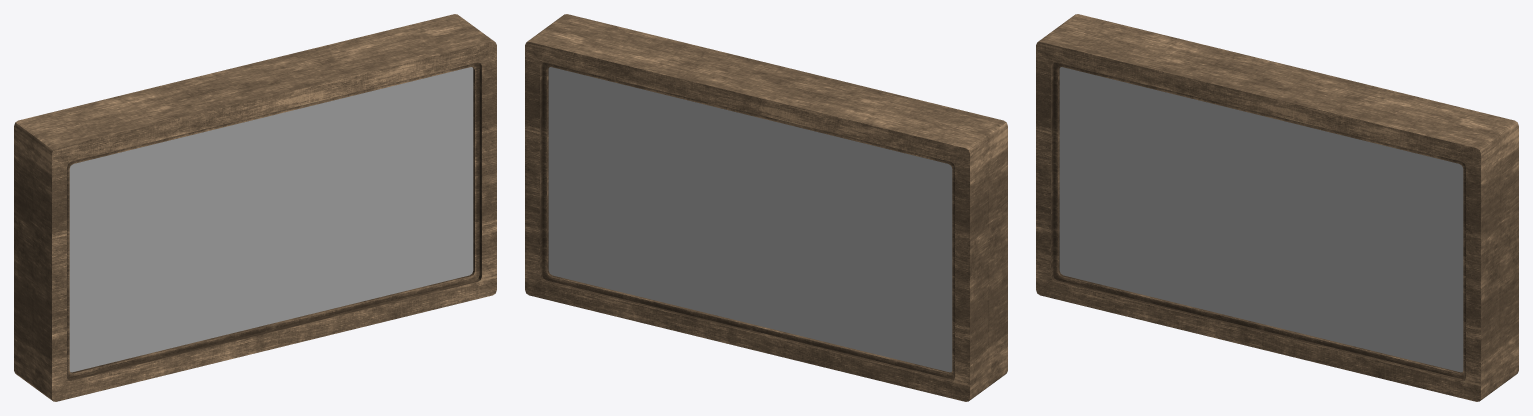
Rendered from M_BRoomWindow.fbx.
3 views of the same model, side by side, from view 1: azimuth 30°, elevation 25°; view 2: azimuth 150°, elevation 25°; view 3: azimuth 330°, elevation 25° (orthographic).
Visible parts, largest first — view 1: glass_GEO, windowframe_GEO; view 2: glass_GEO, windowframe_GEO; view 3: glass_GEO, windowframe_GEO.
Boxes of the visible parts, x1,y1,x2,y2 form: glass_GEO: (69, 67, 473, 372); windowframe_GEO: (14, 14, 496, 401); glass_GEO: (548, 67, 952, 372); windowframe_GEO: (525, 14, 1007, 401); glass_GEO: (1059, 67, 1463, 372); windowframe_GEO: (1036, 14, 1518, 401).
Bounding box in the file's own units: 84.44 × 46.01 × 12.5.
2 materials, 2 textured.
